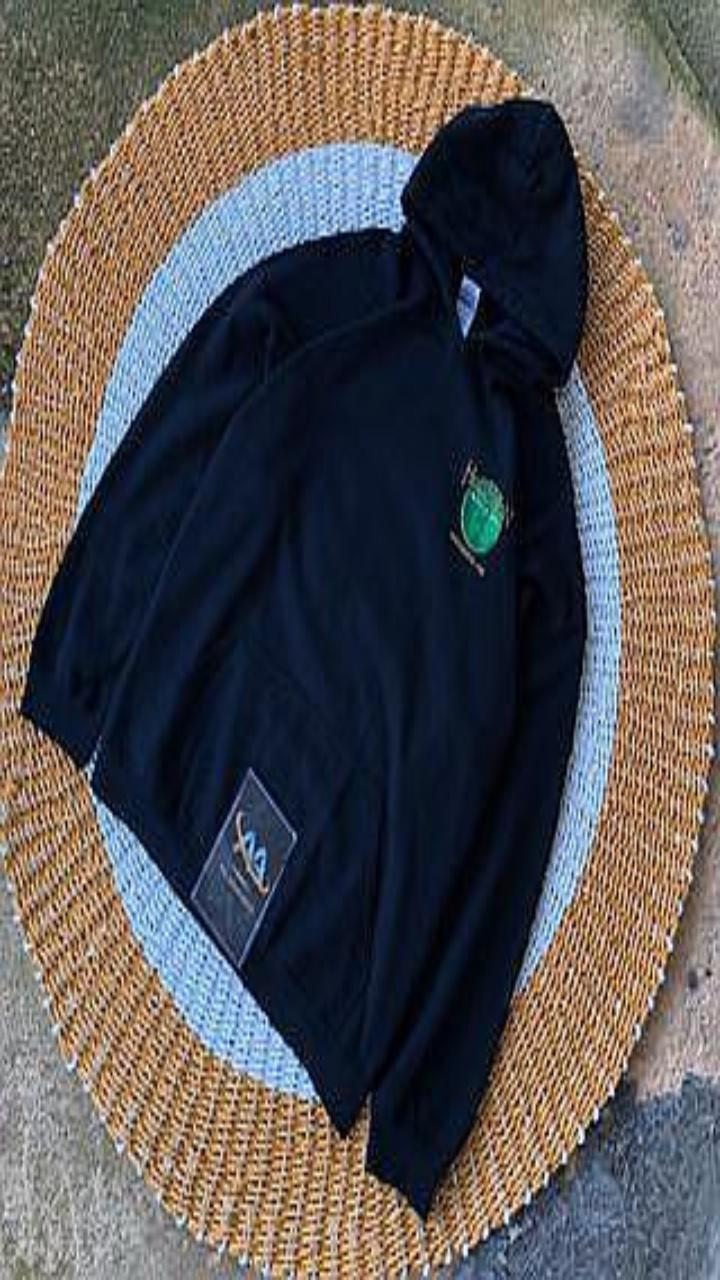Hoodie: (22, 99, 586, 1215)
